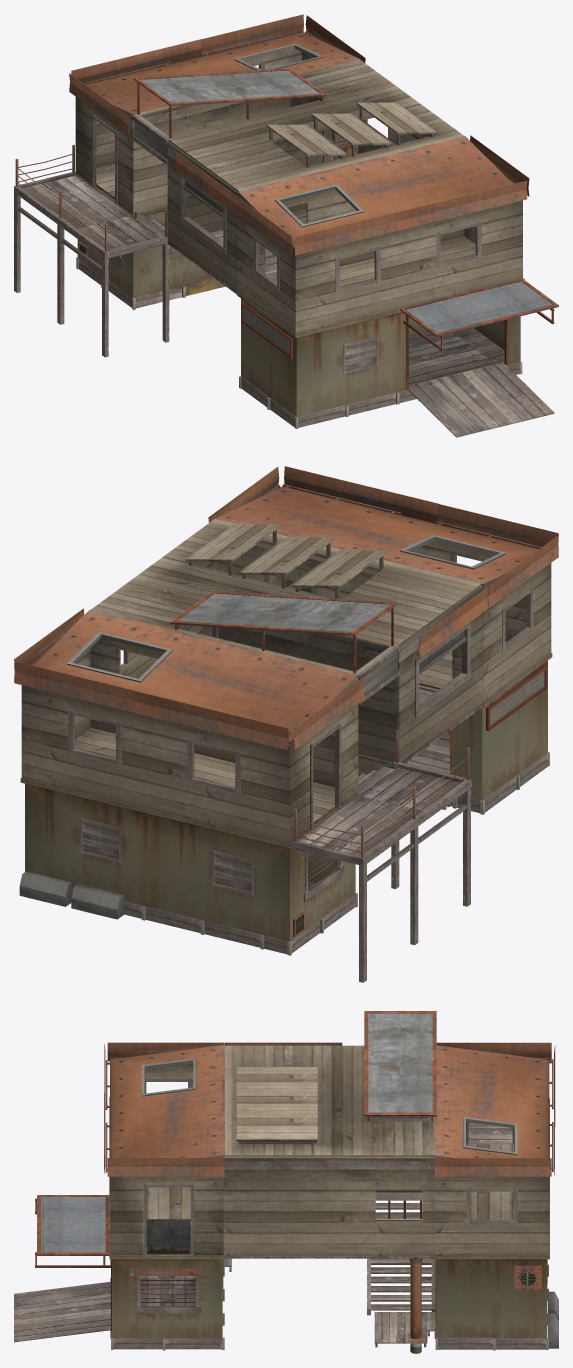
The model's file is h_shanty.glb.
The picture shows the model from 3 angles, top to bottom: view 1: azimuth 30°, elevation 25°; view 2: azimuth 150°, elevation 25°; view 3: azimuth 270°, elevation 25°; orthographic projection. The views are drawn at different scales.
Visible parts, largest first — view 1: body|ID_04, body|ID_03, body|ID_05, body|ID_02, body|ID_06, body|ID_01; view 2: body|ID_02, body|ID_03, body|ID_01, body|ID_04, body|ID_06, body|ID_05; view 3: body|ID_03, body|ID_04, body|ID_02, body|ID_05, body|ID_01, body|ID_06.
Part boxes in pixels (<box>): body|ID_04: <box>233,135,529,334</box>; body|ID_03: <box>132,59,464,294</box>; body|ID_05: <box>237,278,558,437</box>; body|ID_02: <box>69,14,365,215</box>; body|ID_06: <box>14,142,357,357</box>; body|ID_01: <box>76,174,225,309</box>; body|ID_02: <box>14,608,364,843</box>; body|ID_03: <box>91,519,489,764</box>; body|ID_01: <box>20,778,359,955</box>; body|ID_04: <box>208,466,558,702</box>; body|ID_06: <box>19,730,471,982</box>; body|ID_05: <box>358,653,552,814</box>; body|ID_03: <box>223,1011,436,1258</box>; body|ID_04: <box>104,1042,224,1255</box>; body|ID_02: <box>434,1042,555,1255</box>; body|ID_05: <box>14,1195,231,1350</box>; body|ID_01: <box>427,1205,549,1350</box>; body|ID_06: <box>367,1116,558,1353</box>.
Size of the model in its own units: 18.39 by 14.25 by 29.59.
Materials: 6 (6 with a texture image).
